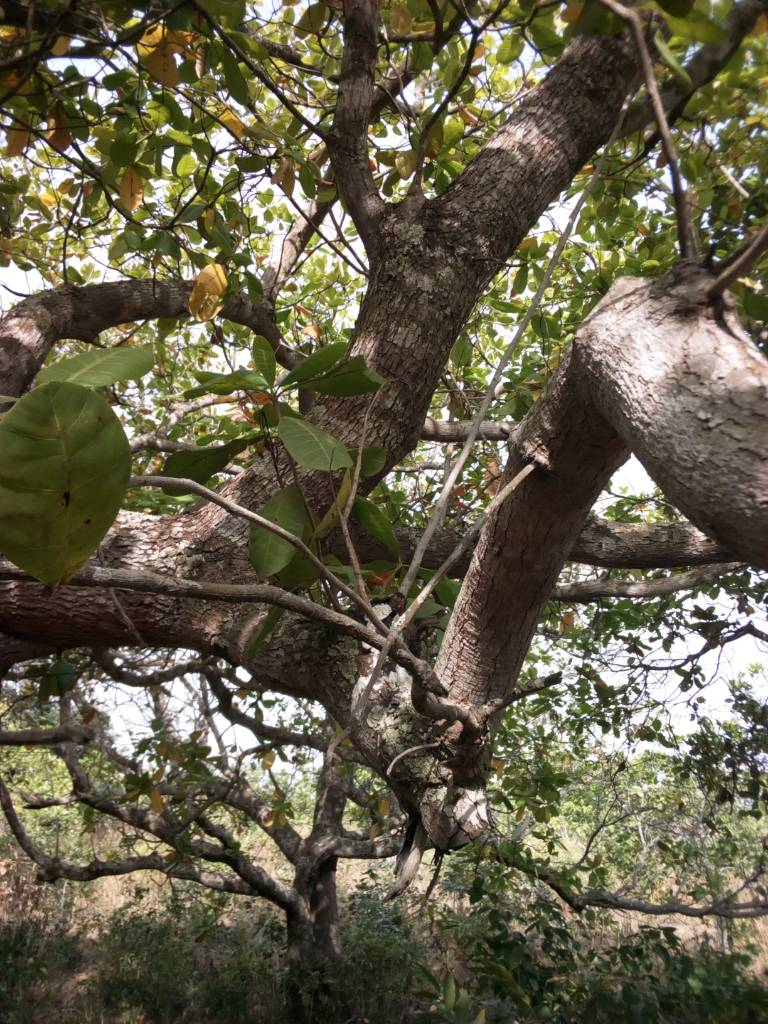Pestalotiose: (11, 389, 119, 585)
